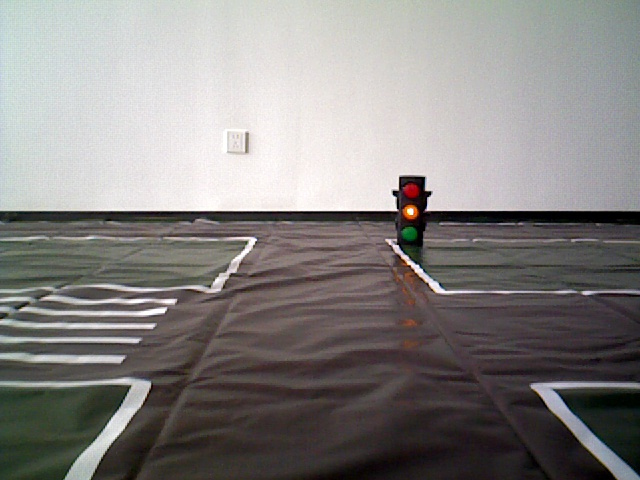yellow: (395, 174, 428, 243)
